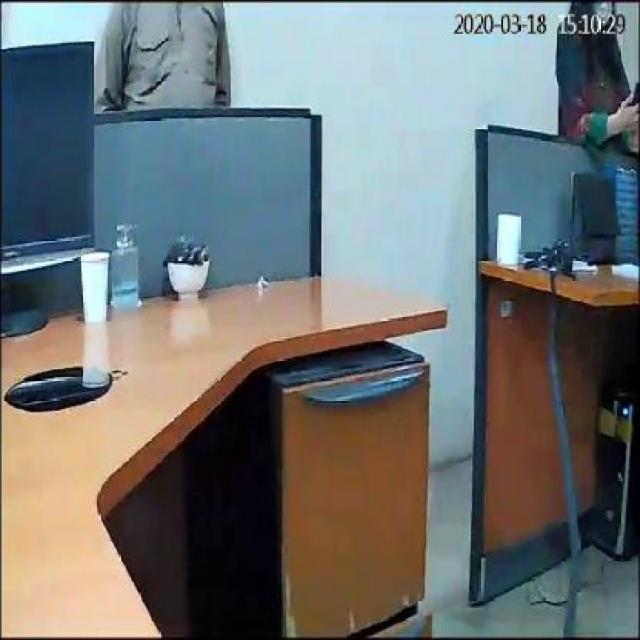spill: (6, 364, 119, 412)
